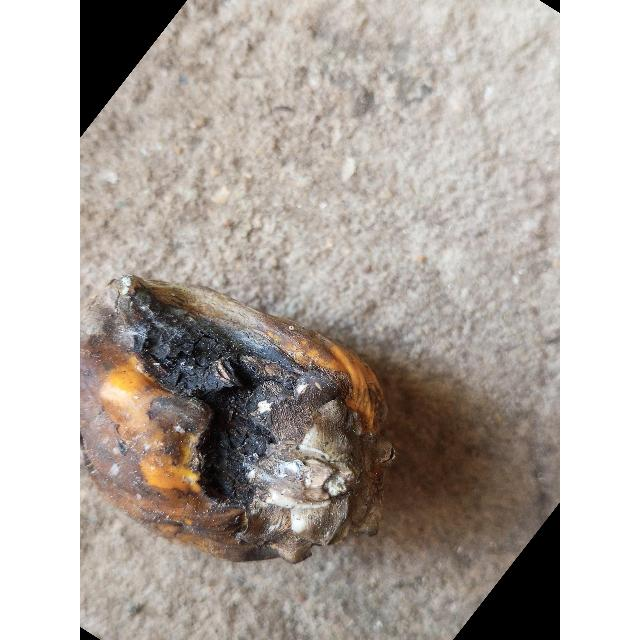damaged: (80, 275, 395, 563)
